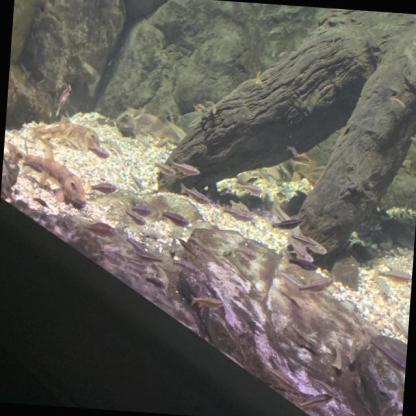fish: (0, 136, 98, 212), (24, 105, 112, 161), (115, 105, 191, 147), (265, 359, 321, 406), (267, 193, 306, 239), (285, 268, 341, 300), (286, 223, 334, 258), (279, 230, 324, 266), (374, 260, 412, 294), (127, 240, 167, 268), (173, 236, 212, 264), (75, 217, 119, 241), (218, 198, 256, 225), (297, 388, 333, 414), (233, 172, 266, 200), (176, 180, 209, 207), (167, 155, 203, 179), (159, 207, 189, 232), (188, 292, 225, 312), (269, 214, 305, 234), (119, 204, 148, 226), (128, 197, 154, 221), (328, 340, 346, 374), (54, 80, 73, 112), (346, 330, 362, 366), (102, 134, 126, 157), (97, 248, 123, 269), (150, 158, 176, 178), (82, 142, 110, 160), (122, 234, 147, 254), (85, 179, 118, 194), (374, 275, 394, 298), (388, 313, 406, 338), (230, 244, 258, 260), (228, 198, 250, 214), (186, 112, 203, 128), (202, 99, 218, 115), (284, 143, 298, 159), (218, 186, 229, 198), (192, 102, 204, 113)
